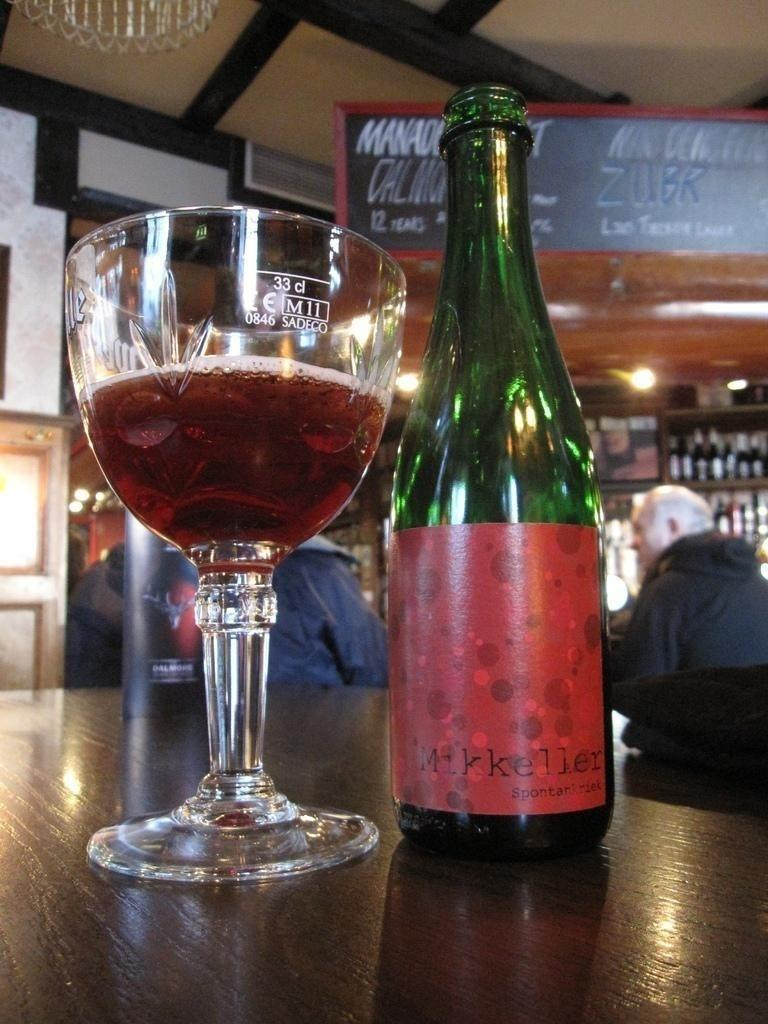bottle-glass: (382, 90, 620, 851)
glass-wine: (62, 203, 407, 887)
